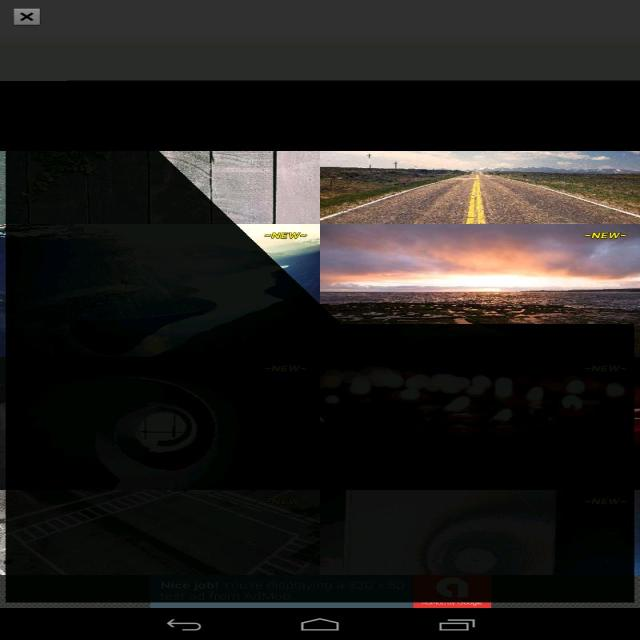button: (11, 5, 44, 28)
image: (3, 81, 640, 598)
